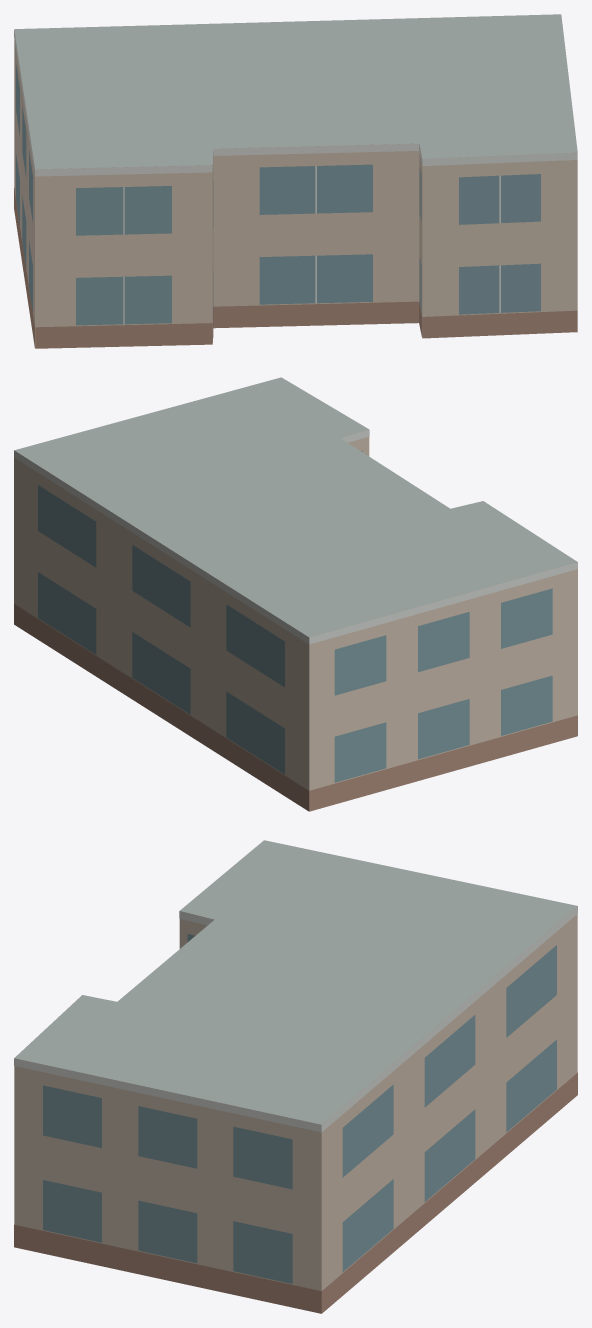
File: survey-upis-32883554.glb
3 renders of one model, top to bottom at view 1: azimuth 30°, elevation 25°; view 2: azimuth 150°, elevation 25°; view 3: azimuth 270°, elevation 25°, orthographic. The views are drawn at different scales.
Parts seen in each view (by area): view 1: survey-upis-32883554.tmp; view 2: survey-upis-32883554.tmp; view 3: survey-upis-32883554.tmp.
Part boxes in pixels (x1=…): survey-upis-32883554.tmp: x1=14, y1=14, x2=577, y2=348; survey-upis-32883554.tmp: x1=14, y1=377, x2=577, y2=811; survey-upis-32883554.tmp: x1=14, y1=840, x2=577, y2=1313.
Bounding box in the file's own units: 19.38 × 6 × 16.22.
